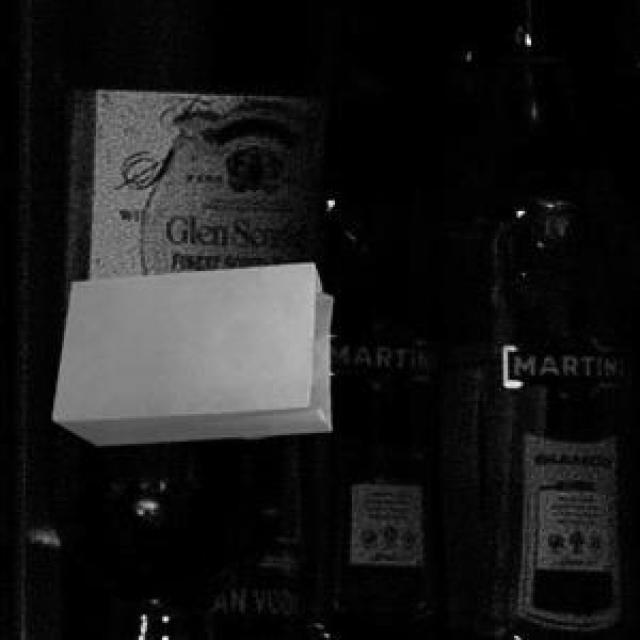paper: (49, 258, 329, 442)
